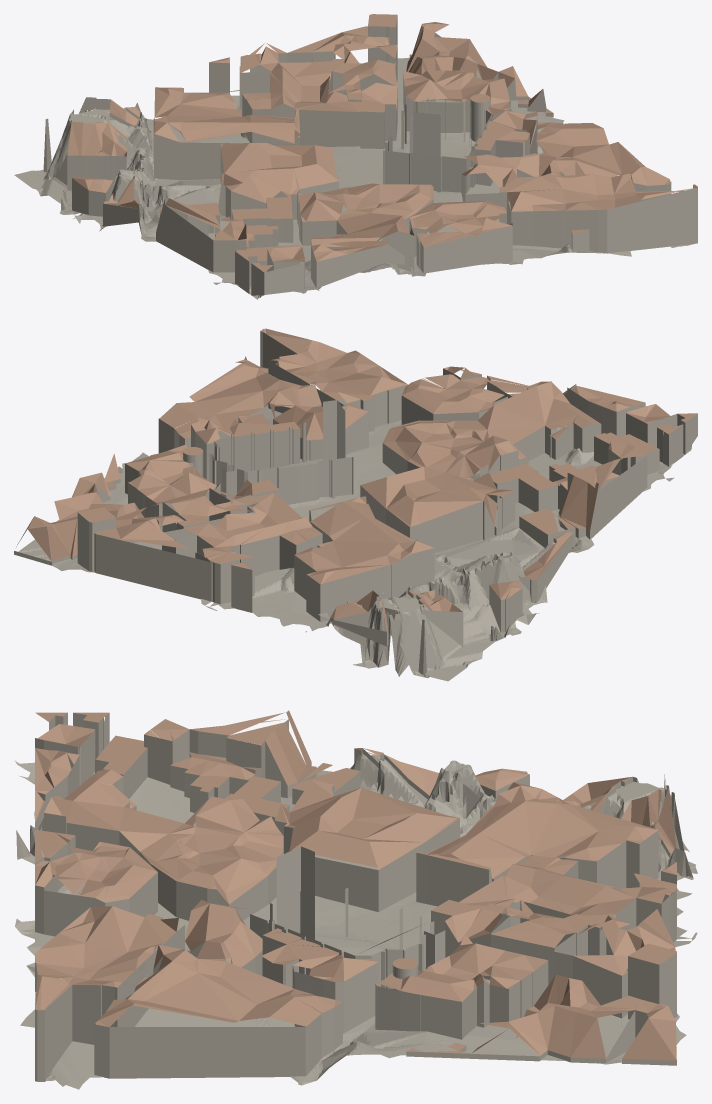
The model's file is santa_maria_v0_3.glb.
The picture shows the model from 3 angles, top to bottom: view 1: azimuth 30°, elevation 25°; view 2: azimuth 150°, elevation 25°; view 3: azimuth 270°, elevation 25°; orthographic projection. The views are drawn at different scales.
Parts seen in each view (by area): view 1: Terreno_interpolado, Edificio_33_fachadas, Edificio_34_cubierta, Edificio_12_cubierta, Edificio_10_cubierta, Edificio_11_cubierta, Edificio_33_cubierta, Edificio_32_cubierta, Edificio_32_fachadas, Concatedral_fachadas, Edificio_31_cubierta, Edificio_30_cubierta (+36 smaller); view 2: Terreno_interpolado, Edificio_12_cubierta, Edificio_34_cubierta, Edificio_11_cubierta, Edificio_10_cubierta, Edificio_33_cubierta, Edificio_28_fachadas, Edificio_11_fachadas, Concatedral_fachadas, Edificio_32_cubierta, Edificio_10_fachadas, Edificio_32_fachadas (+37 smaller); view 3: Terreno_interpolado, Edificio_12_cubierta, Edificio_34_cubierta, Edificio_34_fachadas, Edificio_11_cubierta, Edificio_10_cubierta, Edificio_33_cubierta, Edificio_31_cubierta, Edificio_32_cubierta, Edificio_30_fachadas, Edificio_11_fachadas, Edificio_33_fachadas (+39 smaller).
Part boxes in pixels (x1,y1,x2,y2): Terreno_interpolado: (14, 57, 693, 299); Edificio_33_fachadas: (499, 173, 697, 253); Edificio_34_cubierta: (461, 122, 670, 187); Edificio_12_cubierta: (298, 183, 433, 246); Edificio_10_cubierta: (220, 143, 338, 203); Edificio_11_cubierta: (153, 87, 299, 143); Edificio_33_cubierta: (499, 168, 697, 211); Edificio_32_cubierta: (239, 46, 361, 111); Edificio_32_fachadas: (239, 54, 360, 146); Concatedral_fachadas: (383, 98, 492, 193); Edificio_31_cubierta: (406, 22, 527, 96); Edificio_30_cubierta: (403, 70, 511, 110); Terreno_interpolado: (18, 390, 691, 681); Edificio_12_cubierta: (383, 381, 600, 477); Edificio_34_cubierta: (159, 356, 368, 440); Edificio_11_cubierta: (295, 496, 433, 584); Edificio_10_cubierta: (360, 466, 514, 527); Edificio_33_cubierta: (261, 328, 407, 403); Edificio_28_fachadas: (94, 528, 212, 601); Edificio_11_fachadas: (294, 510, 434, 621); Concatedral_fachadas: (209, 425, 353, 504); Edificio_32_cubierta: (184, 493, 322, 564); Edificio_10_fachadas: (360, 485, 515, 552); Edificio_32_fachadas: (162, 506, 322, 604); Terreno_interpolado: (14, 752, 697, 1089); Edificio_12_cubierta: (44, 769, 283, 904); Edificio_34_cubierta: (95, 899, 342, 1026); Edificio_34_fachadas: (94, 941, 342, 1078); Edificio_11_cubierta: (416, 782, 657, 878); Edificio_10_cubierta: (275, 780, 459, 869); Edificio_33_cubierta: (35, 906, 178, 1010); Edificio_31_cubierta: (472, 974, 676, 1060); Edificio_32_cubierta: (459, 856, 676, 921); Edificio_30_fachadas: (375, 960, 548, 1039); Edificio_11_fachadas: (416, 830, 658, 907); Edificio_33_fachadas: (35, 917, 184, 1081).
Size of the model in its own units: 159 by 34.52 by 160.
